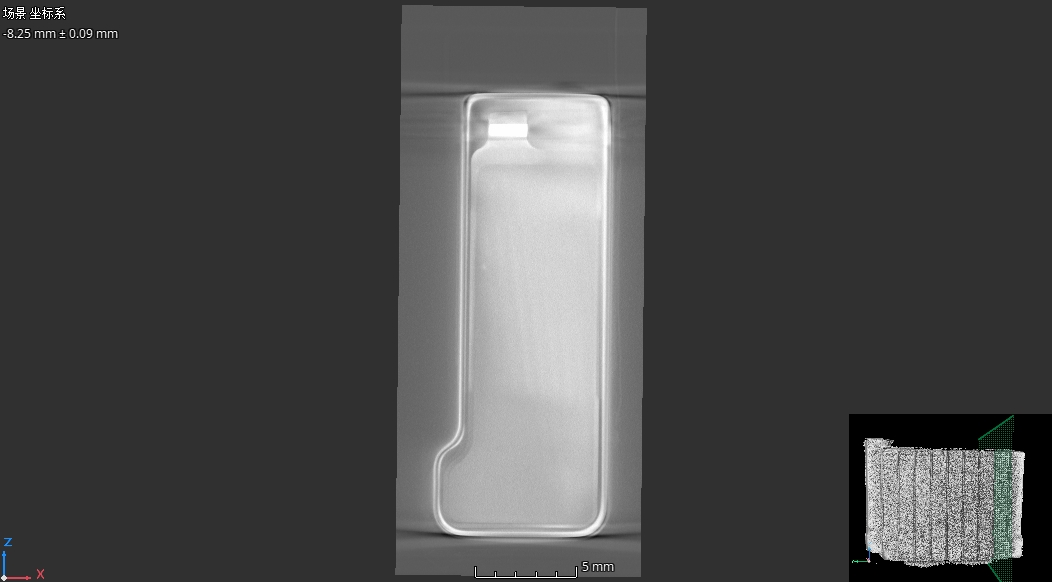light: (481, 264, 487, 270)
